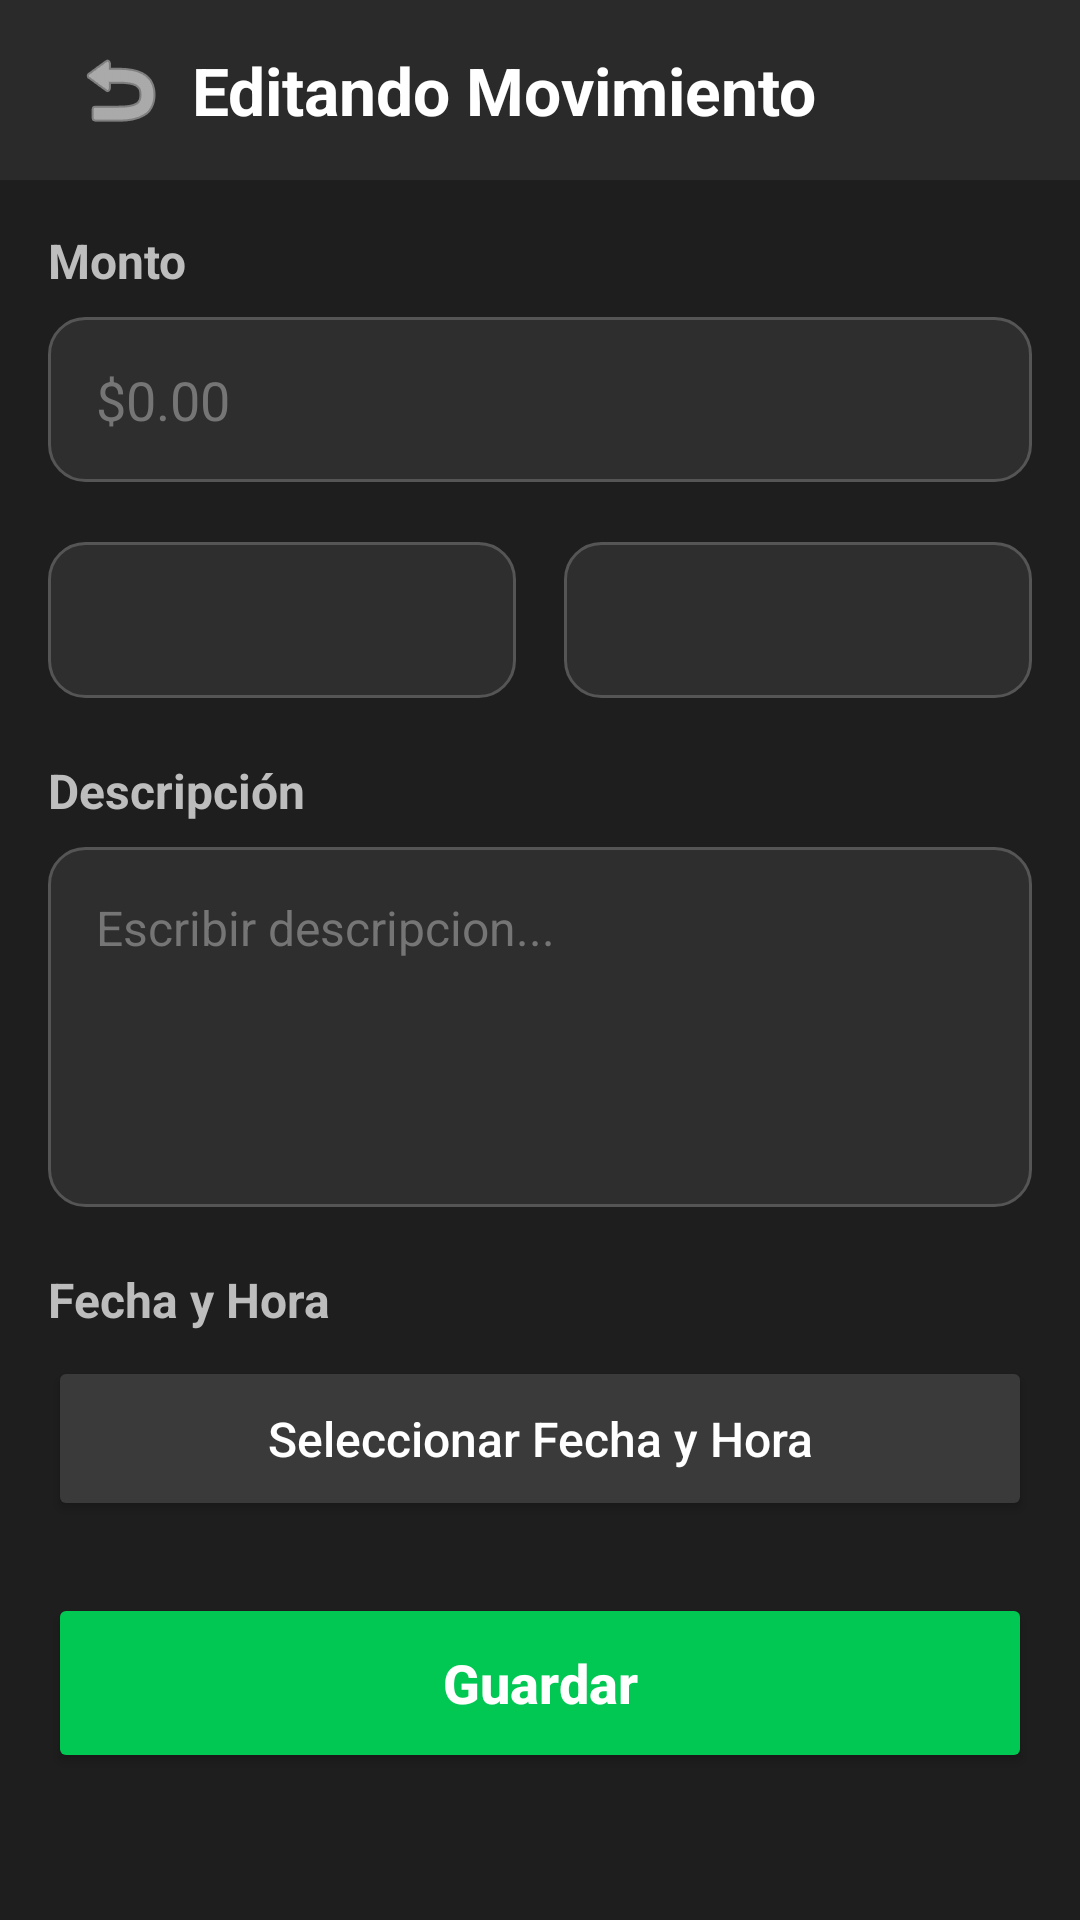

Named icons in this screenshot (1080x1920) and their centers, (x=x, y=y):
revert: (x=121, y=90)
